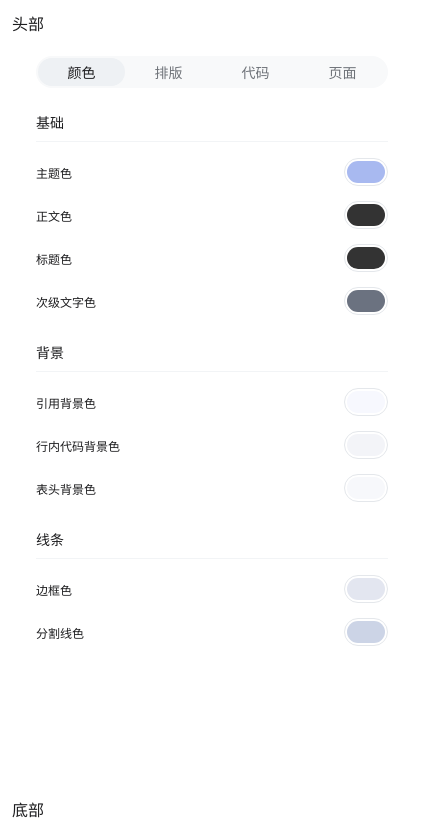
Test: ThemePanel：分组切换 › 切换到排版分组
This screenshot has width=429, height=822.
Click the tab "排版" at (168, 72), box [125,58,212,86]
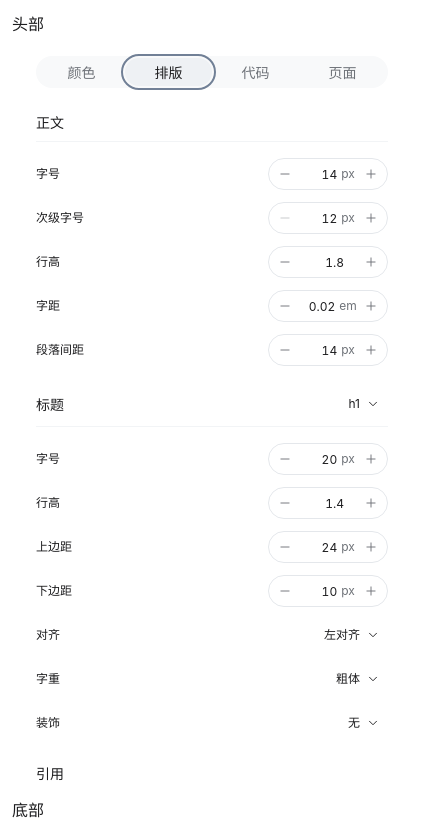
Expected: the heading "正文" is shown, [36,112,388,142]
Expected: the tab "排版" is selected, [125,58,212,86]
Expected: the panel has attribute aria-labelledby="theme-tab-typography"
